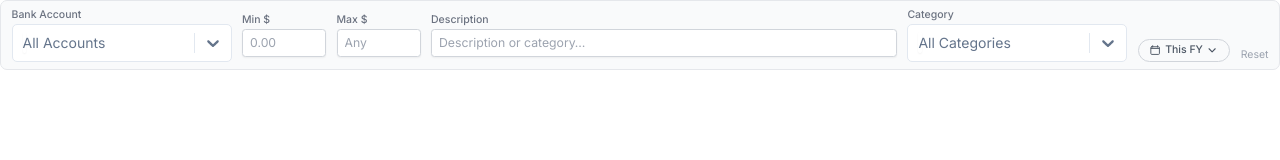
it: TransactionFilters › clicking Period chip twice closes the accordion
Click the button with aria-label "period filter". click: (1184, 50)
box: [1138, 39, 1230, 62]
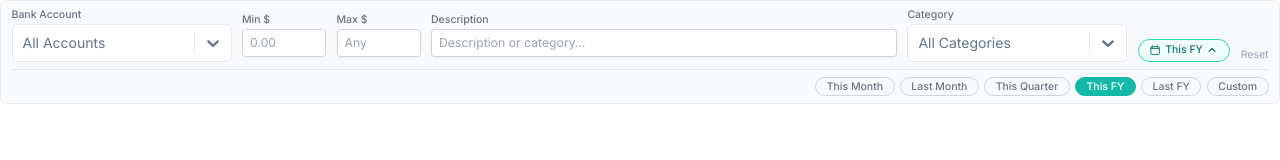
Click the button with aria-label "period filter". click: (1184, 50)
box: [1138, 39, 1230, 62]
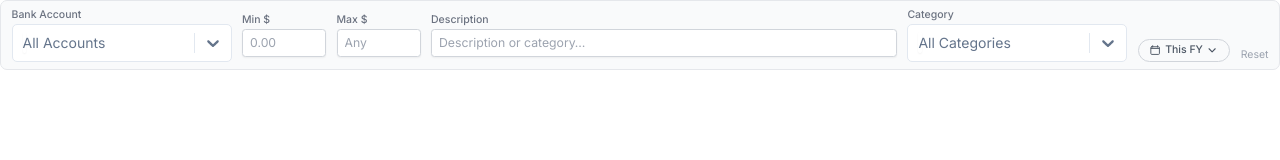
Result: the button "This Month" is gone
Result: the button "Custom" is gone
